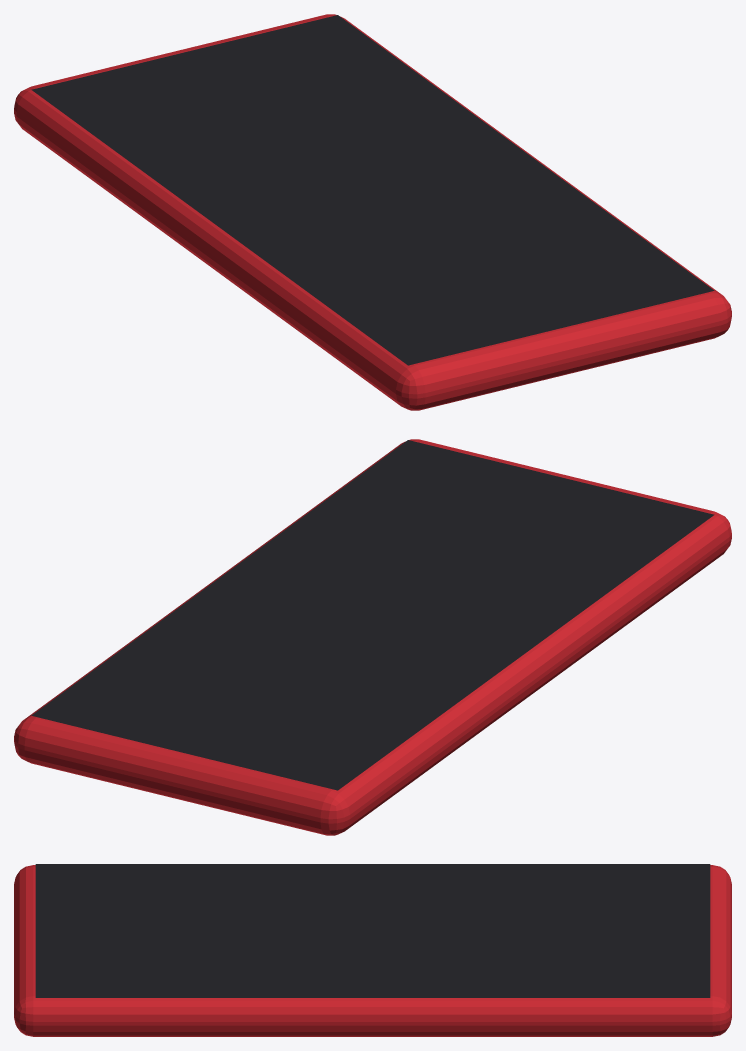
File: Phone_935.glb
3 renders of one model, top to bottom at view 1: azimuth 30°, elevation 25°; view 2: azimuth 150°, elevation 25°; view 3: azimuth 270°, elevation 25°, orthographic. The views are drawn at different scales.
Visible parts, largest first — view 1: Phone_Screen, Phone_Body; view 2: Phone_Screen, Phone_Body; view 3: Phone_Screen, Phone_Body.
Part boxes in pixels (x1,y1,x2,y2): Phone_Screen: [31, 15, 714, 365]; Phone_Body: [14, 14, 731, 410]; Phone_Screen: [31, 440, 714, 790]; Phone_Body: [14, 439, 731, 835]; Phone_Screen: [35, 864, 710, 997]; Phone_Body: [14, 865, 731, 1036].
Size of the model in its own units: 0.0746 by 0.0094 by 0.1554.
